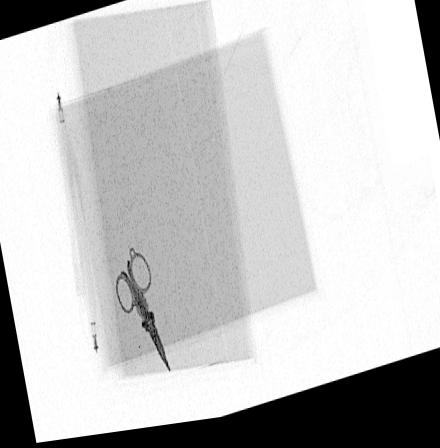Scissors: (112, 248, 170, 379)
